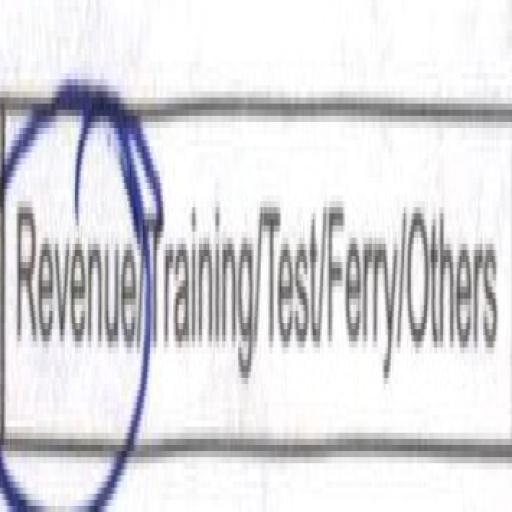check: (0, 49, 147, 512)
